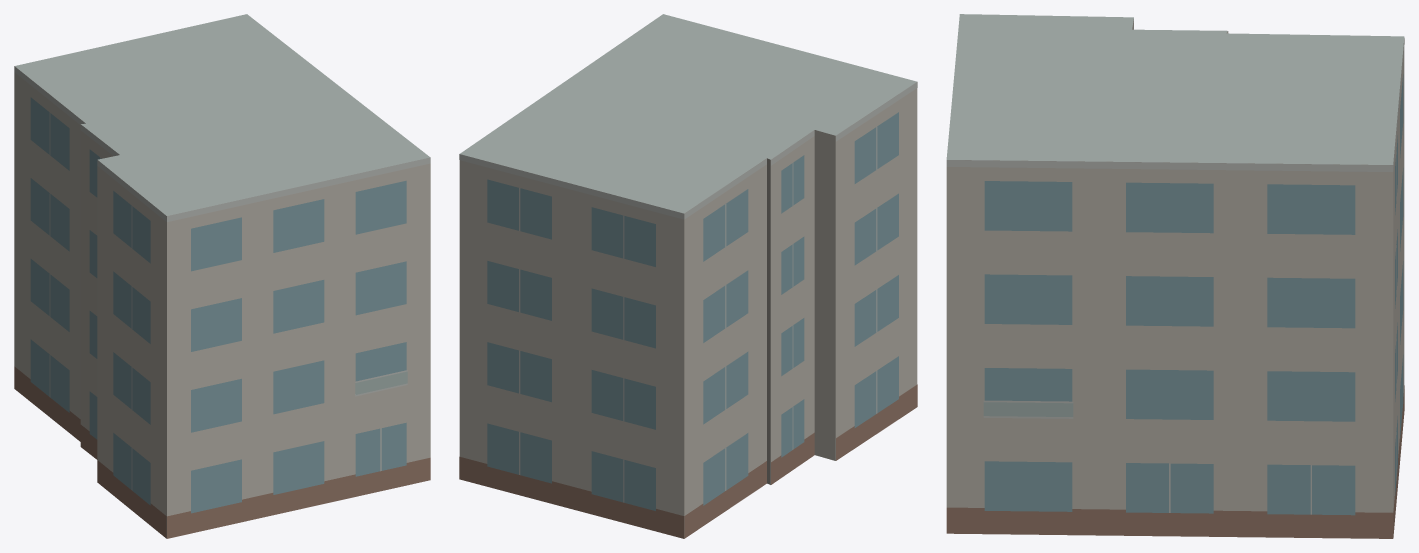
Rendered from survey-upis-32947160.glb.
3 renders of one model, left to right at view 1: azimuth 30°, elevation 25°; view 2: azimuth 150°, elevation 25°; view 3: azimuth 270°, elevation 25°, orthographic. The views are drawn at different scales.
Parts seen in each view (by area): view 1: survey-upis-32947160.tmp; view 2: survey-upis-32947160.tmp; view 3: survey-upis-32947160.tmp.
Part boxes in pixels (bbox=[...]): survey-upis-32947160.tmp: bbox=[14, 14, 430, 538]; survey-upis-32947160.tmp: bbox=[459, 14, 917, 538]; survey-upis-32947160.tmp: bbox=[946, 14, 1404, 538].
Size of the model in its own units: 11.23 by 12.95 by 14.39.
